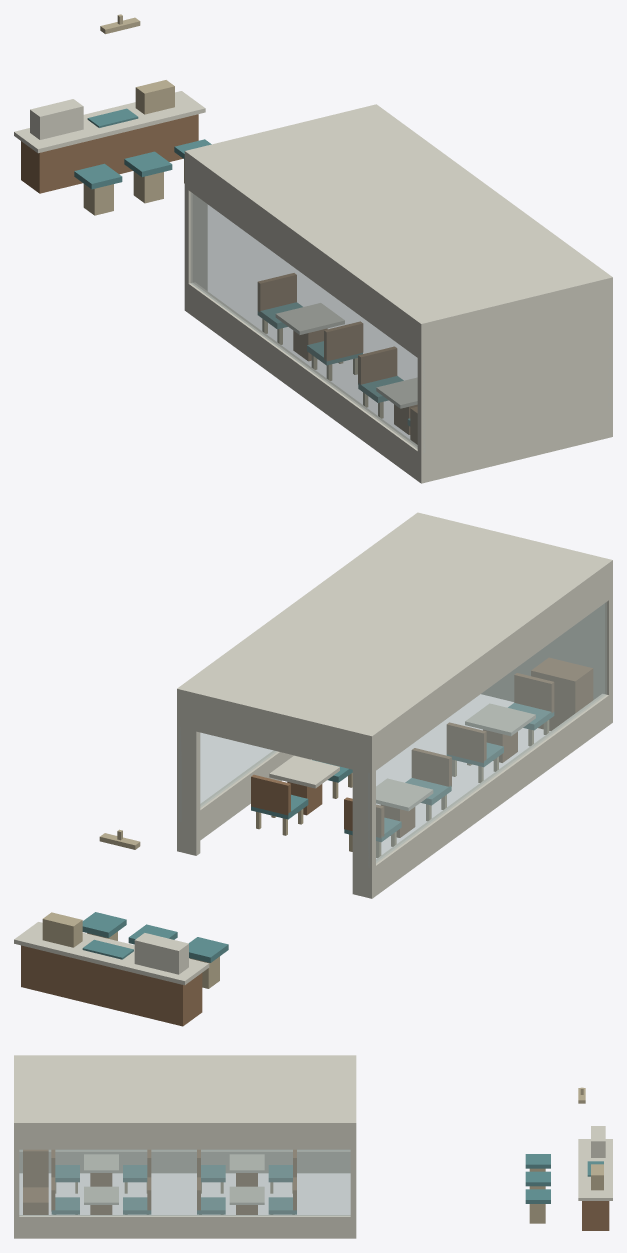
The model's file is VIP_DRY_CLUB_r001.glb.
3 views of the same model, one above another, from view 1: azimuth 30°, elevation 25°; view 2: azimuth 150°, elevation 25°; view 3: azimuth 270°, elevation 25° (orthographic). The views are drawn at different scales.
Parts seen in each view (by area): view 1: G2D_Ceiling, G2D_RearWall, G2D_WestGlass, G2D_WestPlinth, G2D_WestHeader, G2D_BarBase, G2D_BarTop, G2D_FrontLeft, G2D_CleanGlassStock, G2D_Table0Top, G2D_Dining0BBack, G2D_Dining0ABack (+7 smaller); view 2: G2D_Ceiling, G2D_WestGlass, G2D_WestPlinth, G2D_BarBase, G2D_WestHeader, G2D_EntryHeader, G2D_RearWall, G2D_FrontLeft, G2D_FrontRight, G2D_EastGlass, G2D_BarTop, G2D_EastPlinth (+12 smaller); view 3: G2D_Ceiling, G2D_EastGlass, G2D_EastPlinth, G2D_EastHeader, G2D_WestPlinth, G2D_BarTop, G2D_DiningCleanStock, G2D_BarBase, G2D_DiningUsedReturn, G2D_Table0Top, G2D_Table1Top, G2D_Table2Top (+20 smaller).
Boxes of the visible parts, left/top/right/bottom form: G2D_Ceiling: left=184, top=104, right=612, bottom=330; G2D_RearWall: left=417, top=284, right=612, bottom=482; G2D_WestGlass: left=191, top=192, right=424, bottom=451; G2D_WestPlinth: left=184, top=281, right=427, bottom=483; G2D_WestHeader: left=184, top=158, right=427, bottom=360; G2D_BarBase: left=21, top=114, right=198, bottom=193; G2D_BarTop: left=14, top=91, right=205, bottom=153; G2D_FrontLeft: left=184, top=158, right=207, bottom=312; G2D_CleanGlassStock: left=30, top=99, right=83, bottom=139; G2D_Table0Top: left=275, top=303, right=344, bottom=334; G2D_Dining0BBack: left=324, top=321, right=363, bottom=361; G2D_Dining0ABack: left=257, top=273, right=296, bottom=312; G2D_Ceiling: left=177, top=512, right=612, bottom=743; G2D_WestGlass: left=368, top=602, right=606, bottom=867; G2D_WestPlinth: left=365, top=693, right=612, bottom=898; G2D_BarBase: left=21, top=945, right=202, bottom=1026; G2D_WestHeader: left=365, top=567, right=612, bottom=773; G2D_EntryHeader: left=196, top=700, right=352, bottom=769; G2D_RearWall: left=481, top=567, right=612, bottom=724; G2D_FrontLeft: left=352, top=738, right=375, bottom=898; G2D_FrontRight: left=177, top=696, right=200, bottom=855; G2D_EastGlass: left=179, top=727, right=277, bottom=821; G2D_BarTop: left=14, top=922, right=209, bottom=985; G2D_EastPlinth: left=177, top=750, right=310, bottom=852; G2D_Ceiling: left=14, top=1055, right=356, bottom=1127; G2D_EastGlass: left=19, top=1149, right=350, bottom=1216; G2D_EastPlinth: left=14, top=1215, right=356, bottom=1238; G2D_EastHeader: left=14, top=1128, right=356, bottom=1149; G2D_WestPlinth: left=19, top=1150, right=350, bottom=1173; G2D_BarTop: left=578, top=1139, right=612, bottom=1200; G2D_DiningCleanStock: left=23, top=1149, right=48, bottom=1187; G2D_BarBase: left=582, top=1201, right=609, bottom=1230; G2D_DiningUsedReturn: left=23, top=1187, right=48, bottom=1214; G2D_Table0Top: left=229, top=1154, right=264, bottom=1172; G2D_Table1Top: left=229, top=1186, right=264, bottom=1204; G2D_Table2Top: left=84, top=1154, right=118, bottom=1172.
Bounding box in the file's own units: 4.4 × 3.5 × 16.45.
